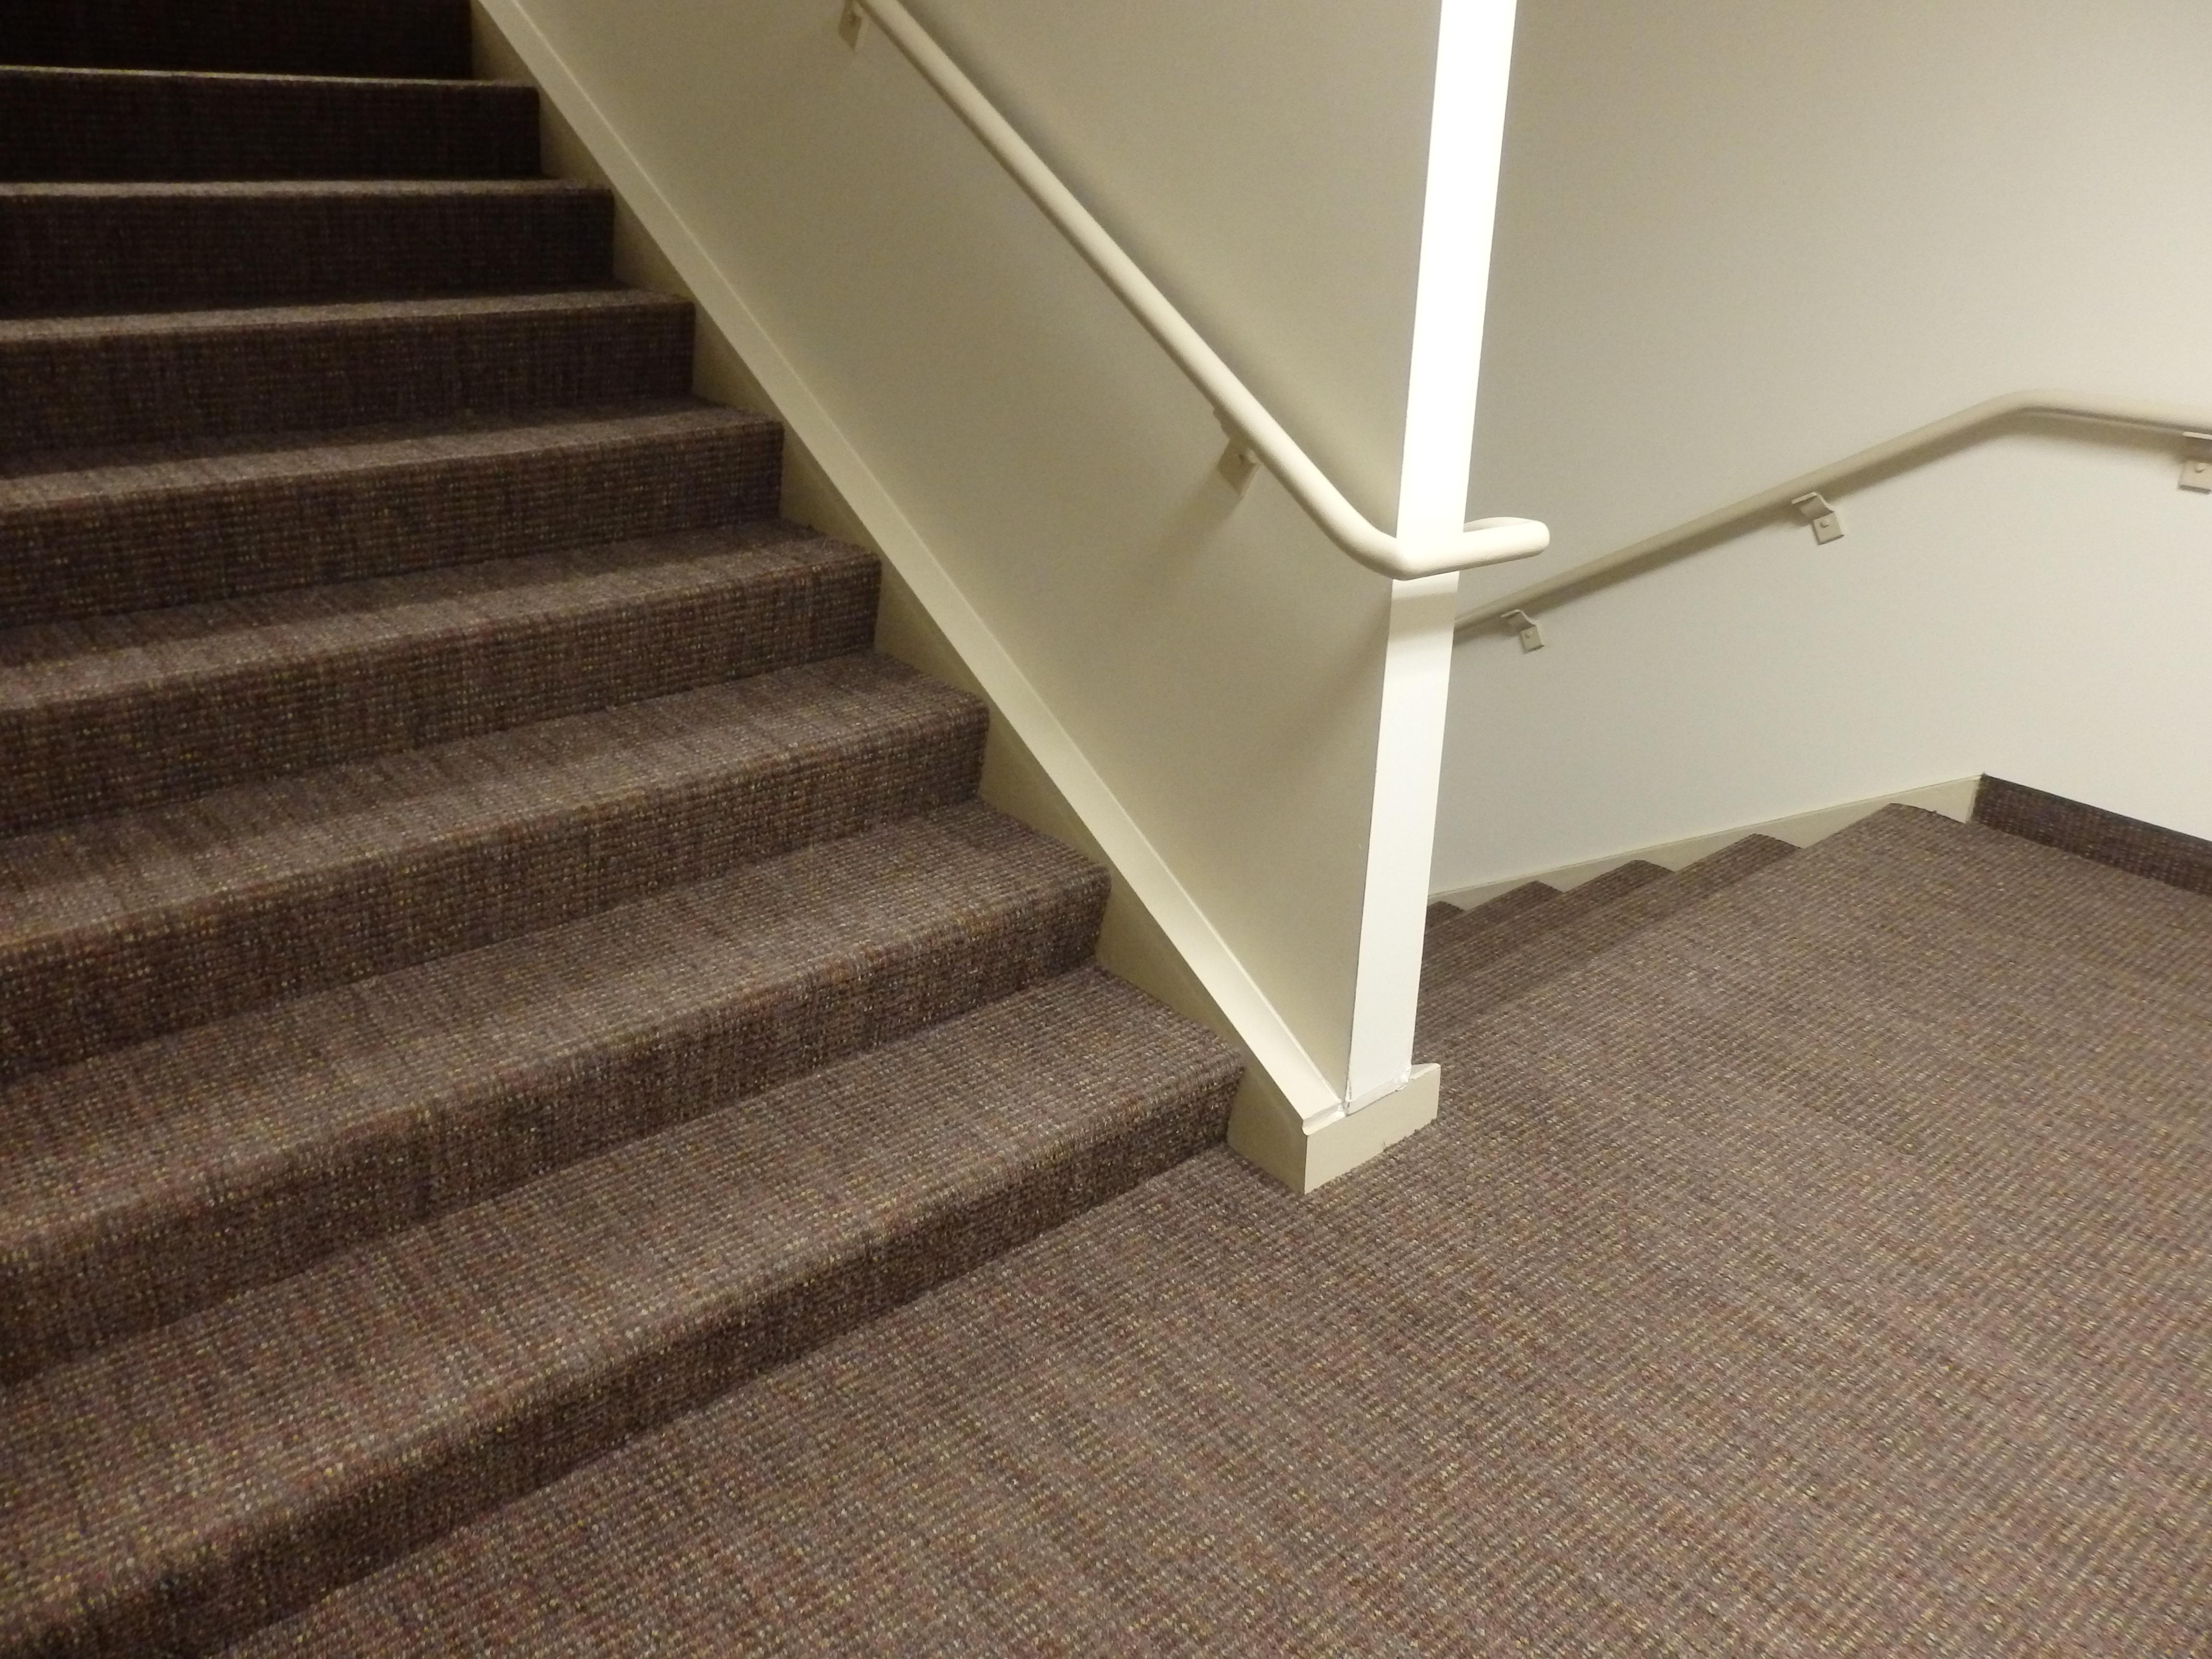stairs_down: (1432, 784, 1883, 1096)
stairs_up: (0, 58, 1163, 1459)
